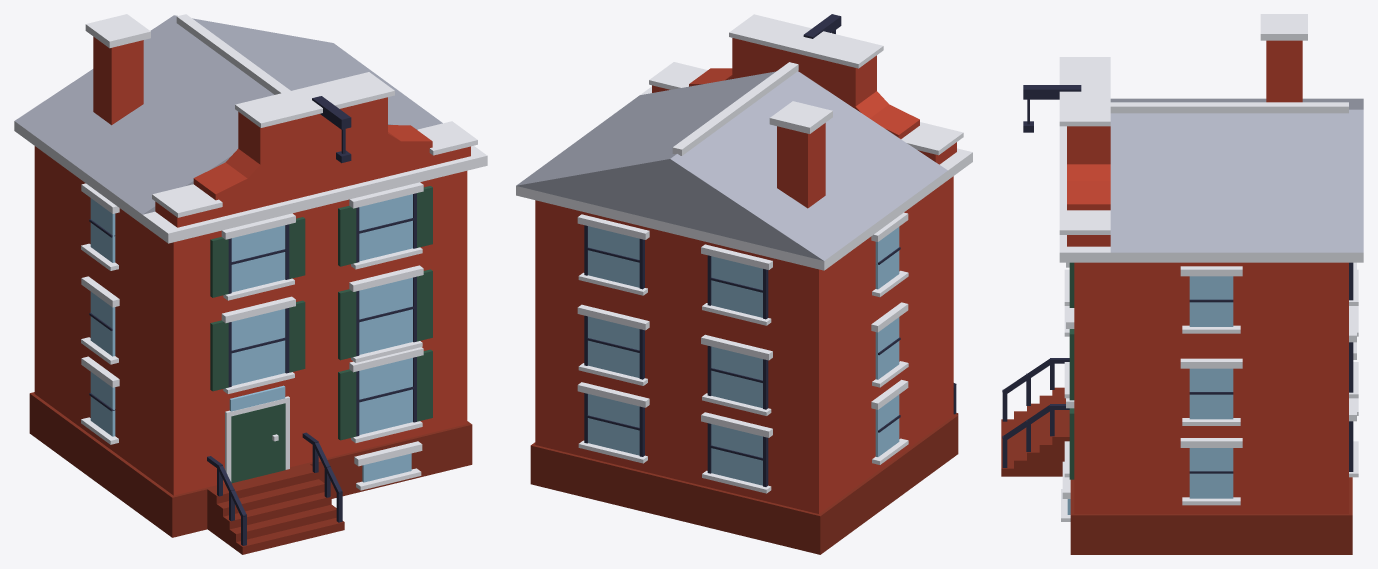
Rendered from house-1x1-3f-dutch-a.glb.
The picture shows the model from 3 angles, left to right: view 1: azimuth 30°, elevation 25°; view 2: azimuth 150°, elevation 25°; view 3: azimuth 270°, elevation 25°; orthographic projection. The views are drawn at different scales.
Visible parts, largest first — view 1: house-1x1-3f-dutch-a; view 2: house-1x1-3f-dutch-a; view 3: house-1x1-3f-dutch-a.
Part boxes in pixels (left/top/right/bottom): house-1x1-3f-dutch-a: left=14, top=14, right=487, bottom=554; house-1x1-3f-dutch-a: left=516, top=14, right=972, bottom=554; house-1x1-3f-dutch-a: left=1001, top=14, right=1363, bottom=554.
Bounding box in the file's own units: 1 × 1.25 × 0.995.
Materials: 1 (1 with a texture image).
